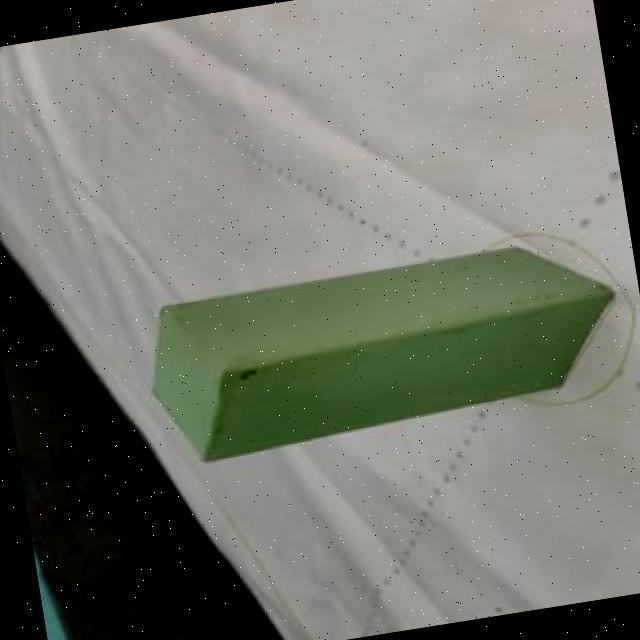greenbox: (132, 233, 630, 470)
